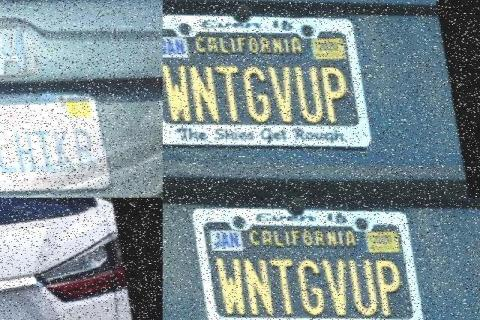LicensePlate: (162, 3, 370, 156), (184, 197, 426, 320), (0, 91, 107, 195)
